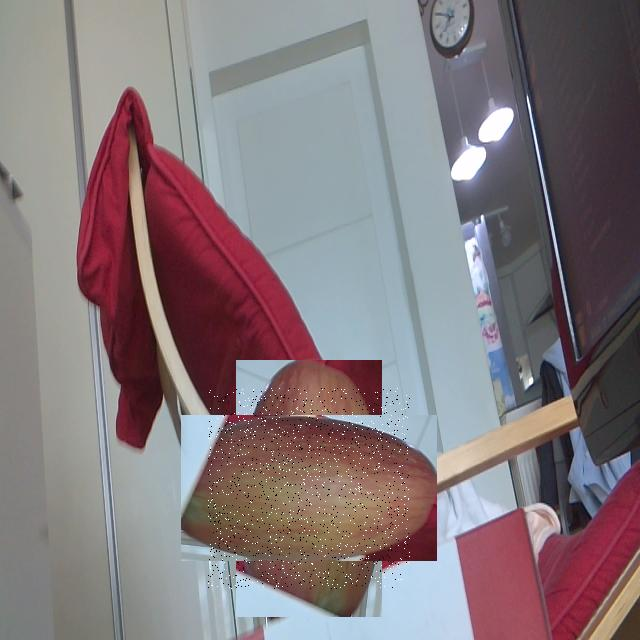apple: (208, 388, 410, 589)
